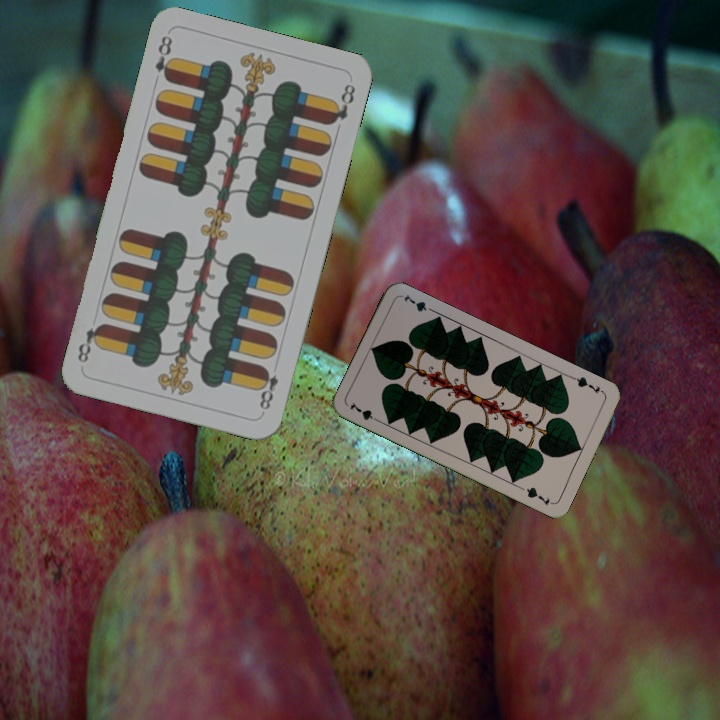E8: (254, 363, 281, 416), (151, 31, 177, 85)
G7: (345, 398, 384, 425), (568, 372, 606, 397)
